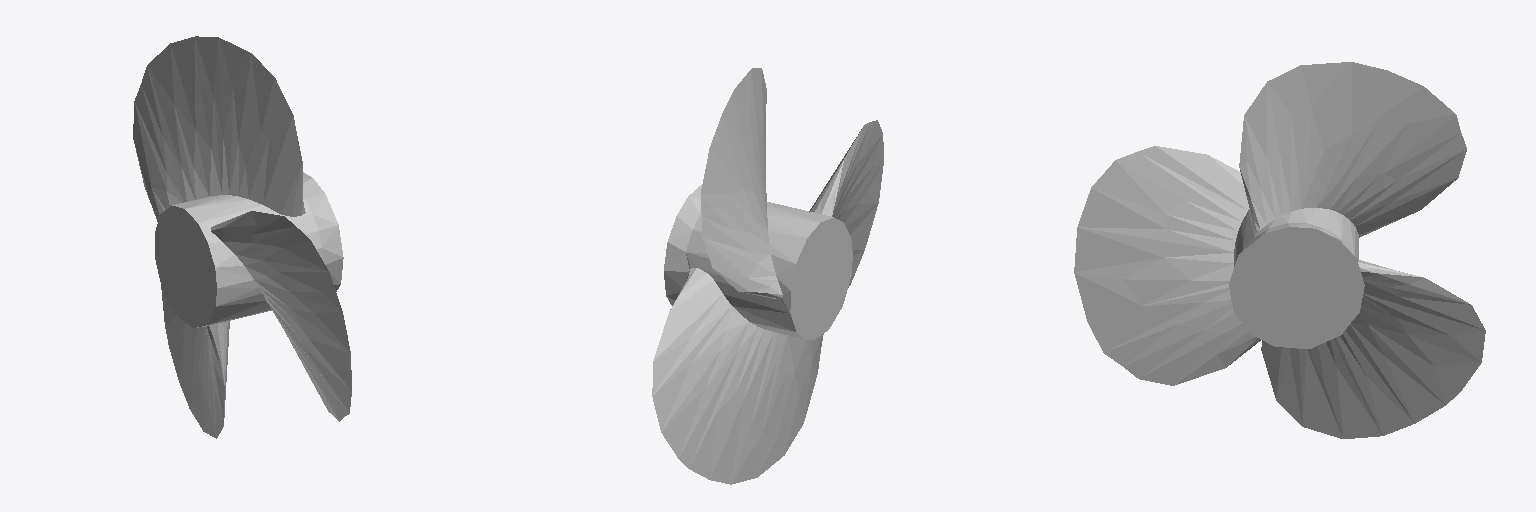
The model's file is zest_propeller_R_ct_mass_test.obj.
3 renders of one model, left to right at view 1: azimuth 30°, elevation 25°; view 2: azimuth 150°, elevation 25°; view 3: azimuth 270°, elevation 25°, orthographic.
Parts seen in each view (by area): view 1: 40HP_BOAT_MOTOR.003; view 2: 40HP_BOAT_MOTOR.003; view 3: 40HP_BOAT_MOTOR.003.
Part boxes in pixels (left/top/right/bottom): 40HP_BOAT_MOTOR.003: left=133, top=36, right=351, bottom=438; 40HP_BOAT_MOTOR.003: left=652, top=68, right=883, bottom=484; 40HP_BOAT_MOTOR.003: left=1074, top=62, right=1485, bottom=438.
Size of the model in its own units: 0.1098 by 0.3279 by 0.316.